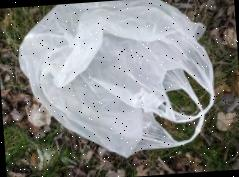plastic: (14, 0, 218, 164)
